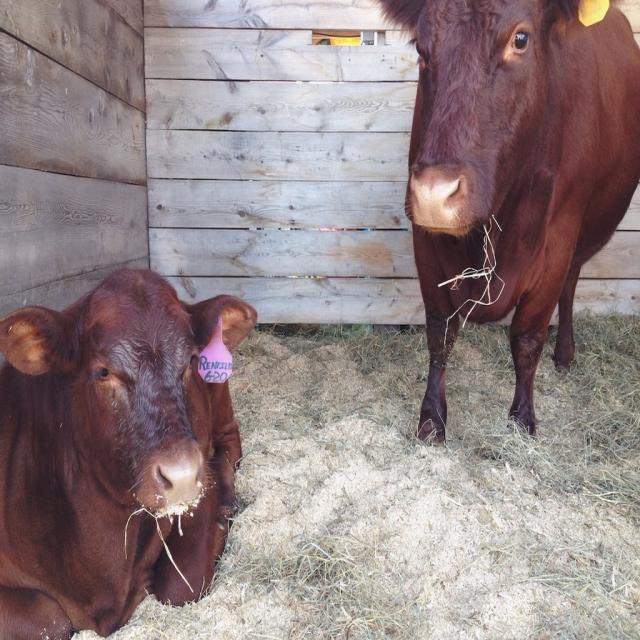Cattle: (372, 0, 640, 447), (0, 266, 257, 640)
